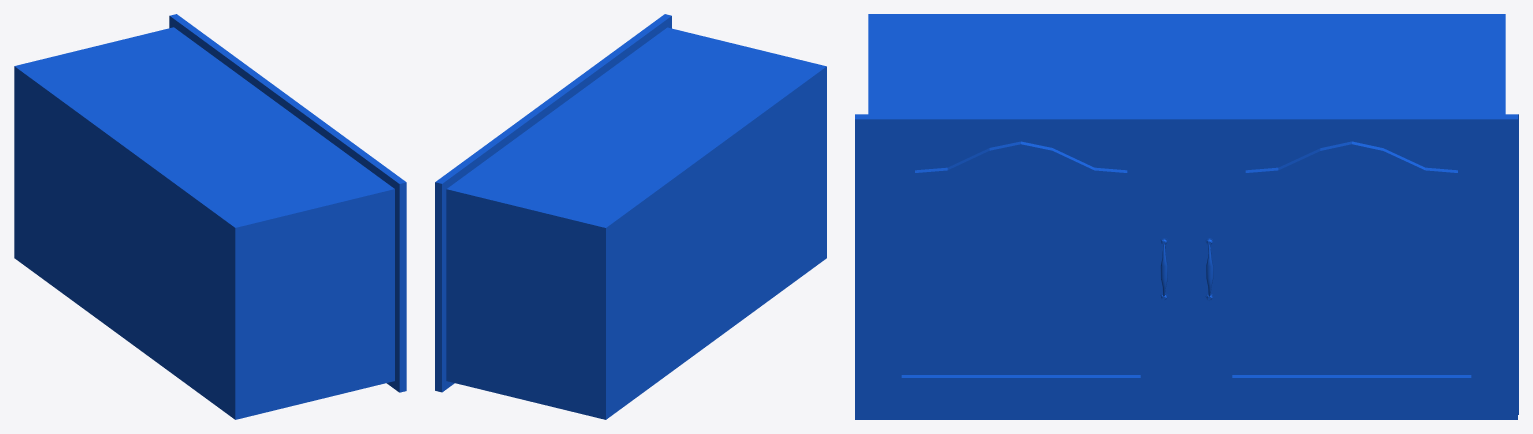
Rendered from ArmarioDoble_Low.fbx.
3 renders of one model, left to right at view 1: azimuth 30°, elevation 25°; view 2: azimuth 150°, elevation 25°; view 3: azimuth 270°, elevation 25°, orthographic. The views are drawn at different scales.
Parts seen in each view (by area): view 1: Base_Low, Puerta_Izq_Low, Puerta_Der_Low; view 2: Base_Low, Puerta_Der_Low, Puerta_Izq_Low; view 3: Puerta_Der_Low, Puerta_Izq_Low, Base_Low.
Part boxes in pixels (box(x1,y1,x2,y2)): Base_Low: box(14, 16, 399, 419); Puerta_Izq_Low: box(285, 98, 406, 392); Puerta_Der_Low: box(170, 14, 291, 99); Base_Low: box(442, 16, 826, 419); Puerta_Der_Low: box(435, 98, 556, 392); Puerta_Izq_Low: box(550, 14, 671, 99); Puerta_Der_Low: box(1186, 114, 1517, 419); Puerta_Izq_Low: box(855, 114, 1185, 419); Base_Low: box(868, 14, 1518, 414).
Size of the model in its own units: 42.89 by 50 by 100.
